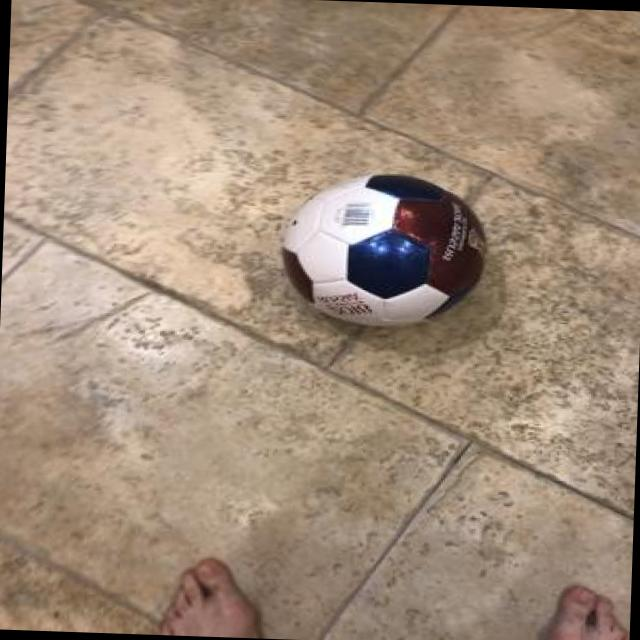Soccer Ball: (277, 165, 496, 332)
